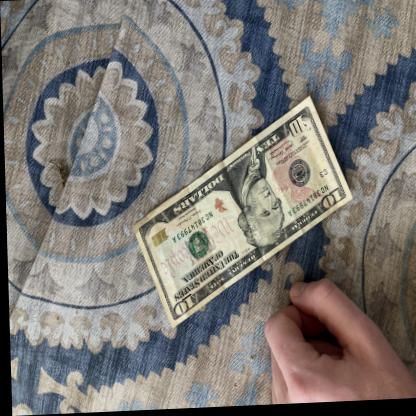ten-front: (129, 93, 356, 327)
